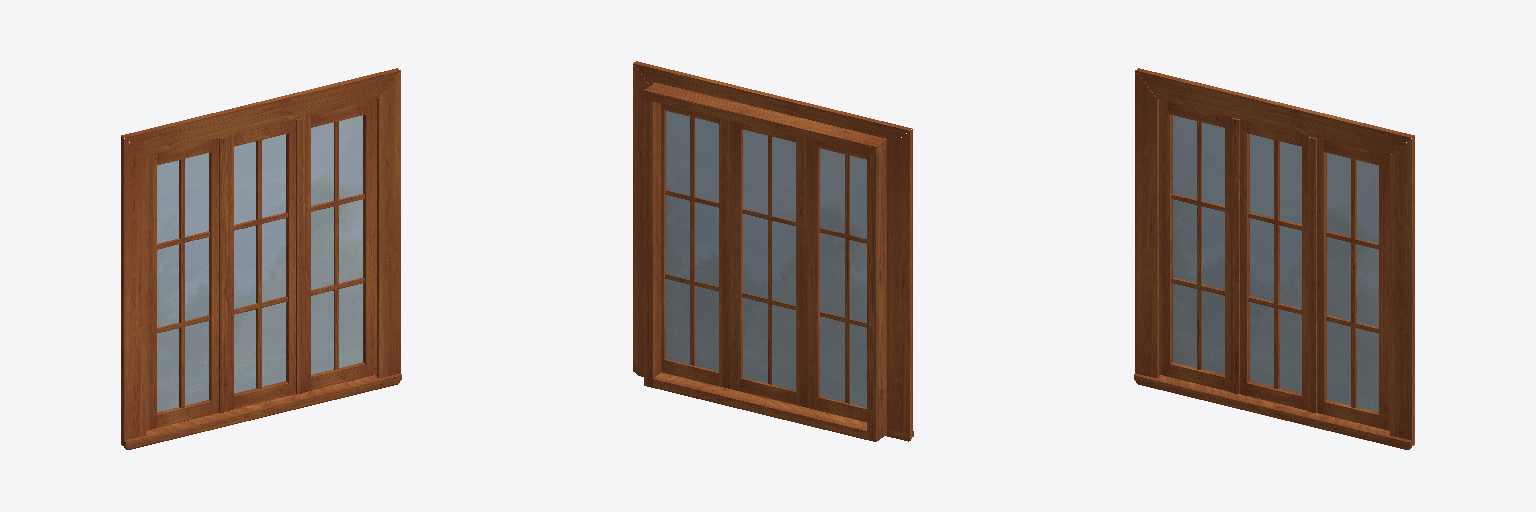
The picture shows the model from 3 angles: view 1: azimuth 30°, elevation 25°; view 2: azimuth 150°, elevation 25°; view 3: azimuth 330°, elevation 25°; orthographic projection.
Parts seen in each view (by area): view 1: glass003, glass002, glass001, trim_left, trim_right, trim_top, window_right003, sill, window_left001, window_right001, window_right002, astragal001 (+13 smaller); view 2: glass002, glass003, glass001, trim_left, box_left, box_right, box_top, trim_top, sill, window_right001, window_right002, trim_right (+9 smaller); view 3: glass001, glass002, glass003, trim_right, trim_left, trim_top, window_left001, sill, window_right003, window_left003, window_left002, astragal002 (+13 smaller).
Boxes of the visible parts, box(x1,y1,x2,y2) form: glass003: box(311, 115, 362, 374); glass002: box(234, 134, 285, 393); glass001: box(157, 153, 208, 411); trim_left: box(121, 136, 145, 445); trim_right: box(376, 71, 400, 377); trim_top: box(121, 68, 400, 155); window_right003: box(363, 100, 376, 376); sill: box(124, 373, 401, 447); window_left001: box(144, 153, 156, 430); window_right001: box(209, 137, 221, 413); window_right002: box(286, 118, 299, 395); astragal001: box(219, 136, 227, 412); glass002: box(743, 130, 795, 389); glass003: box(666, 111, 718, 371); glass001: box(820, 148, 866, 407); trim_left: box(887, 129, 912, 438); box_left: box(867, 149, 886, 441); box_right: box(644, 100, 660, 387); box_top: box(644, 82, 886, 155); trim_top: box(633, 61, 911, 148); sill: box(633, 365, 913, 439); window_right001: box(807, 139, 819, 409); window_right002: box(730, 121, 742, 390); trim_right: box(633, 64, 649, 366); glass001: box(1173, 115, 1224, 374); glass002: box(1250, 134, 1301, 393); glass003: box(1327, 153, 1378, 411); trim_right: box(1390, 136, 1414, 445); trim_left: box(1135, 71, 1159, 377); trim_top: box(1135, 68, 1414, 155); window_left001: box(1159, 100, 1172, 376); sill: box(1134, 373, 1411, 447); window_right003: box(1379, 154, 1391, 430); window_left003: box(1314, 137, 1326, 413); window_left002: box(1236, 118, 1249, 395); astragal002: box(1308, 136, 1316, 412).
Size of the model in its own units: 49.91 by 53.92 by 5.
7 materials, 7 textured.